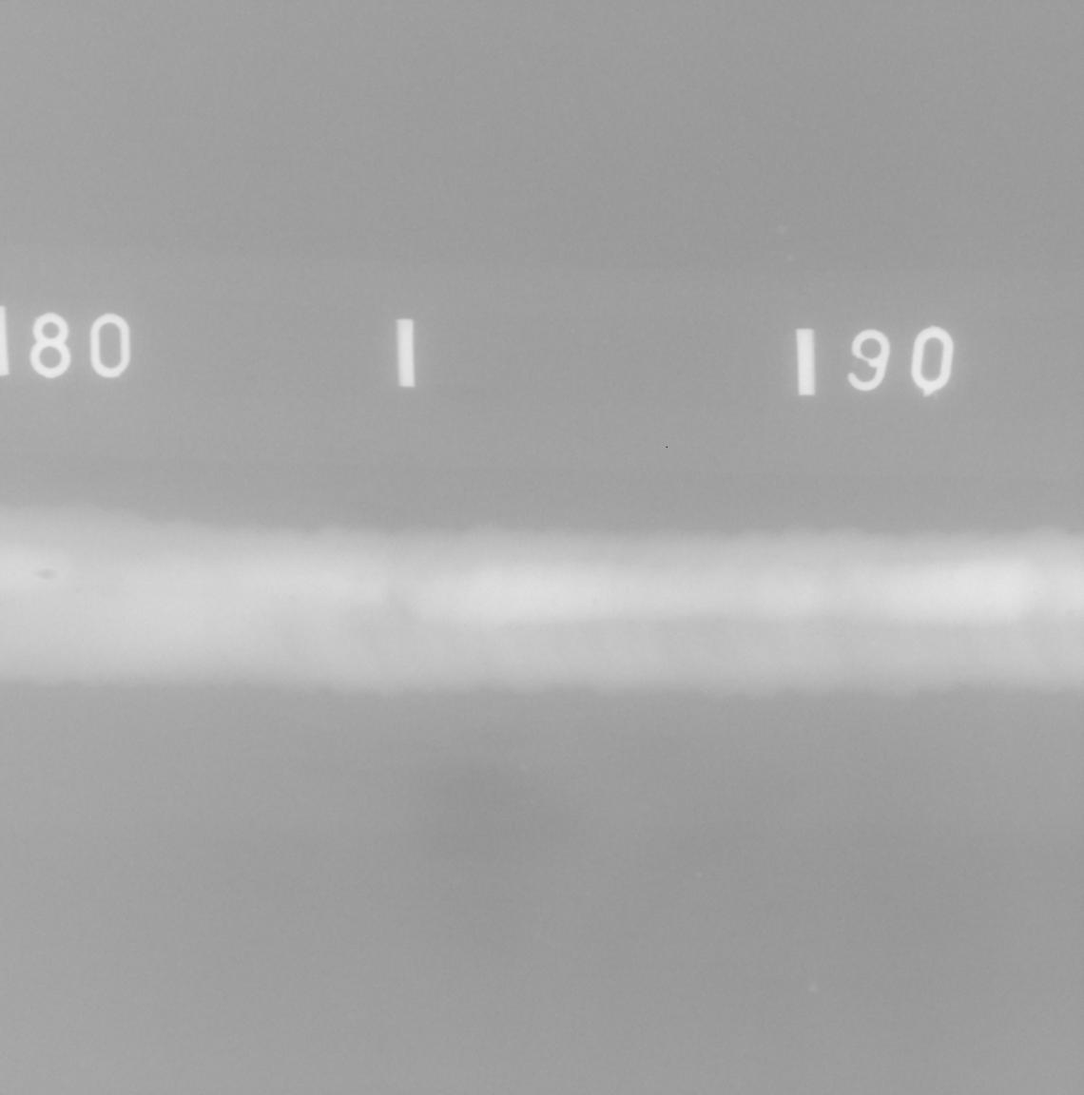Inclusion: (551, 599, 554, 606)
Pore/Porosity: (32, 568, 58, 578), (1067, 607, 1076, 616), (289, 594, 295, 600), (592, 599, 597, 605), (74, 590, 80, 593), (626, 589, 630, 592)
